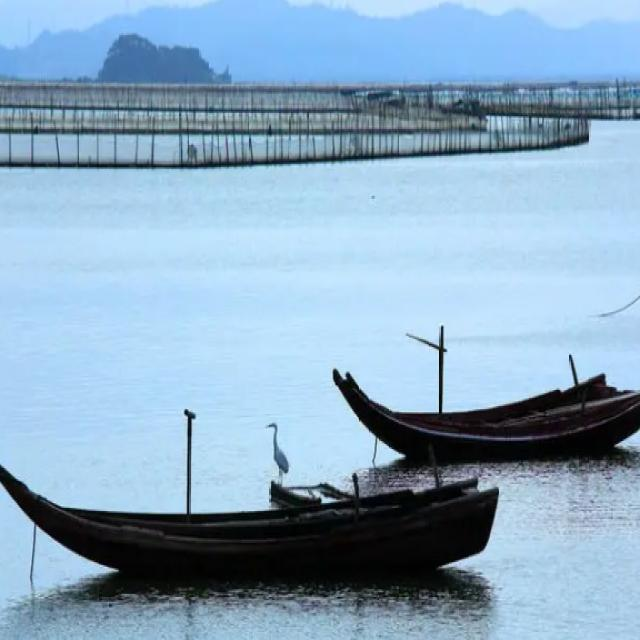fishing boat: (0, 401, 497, 581), (332, 312, 640, 455)
